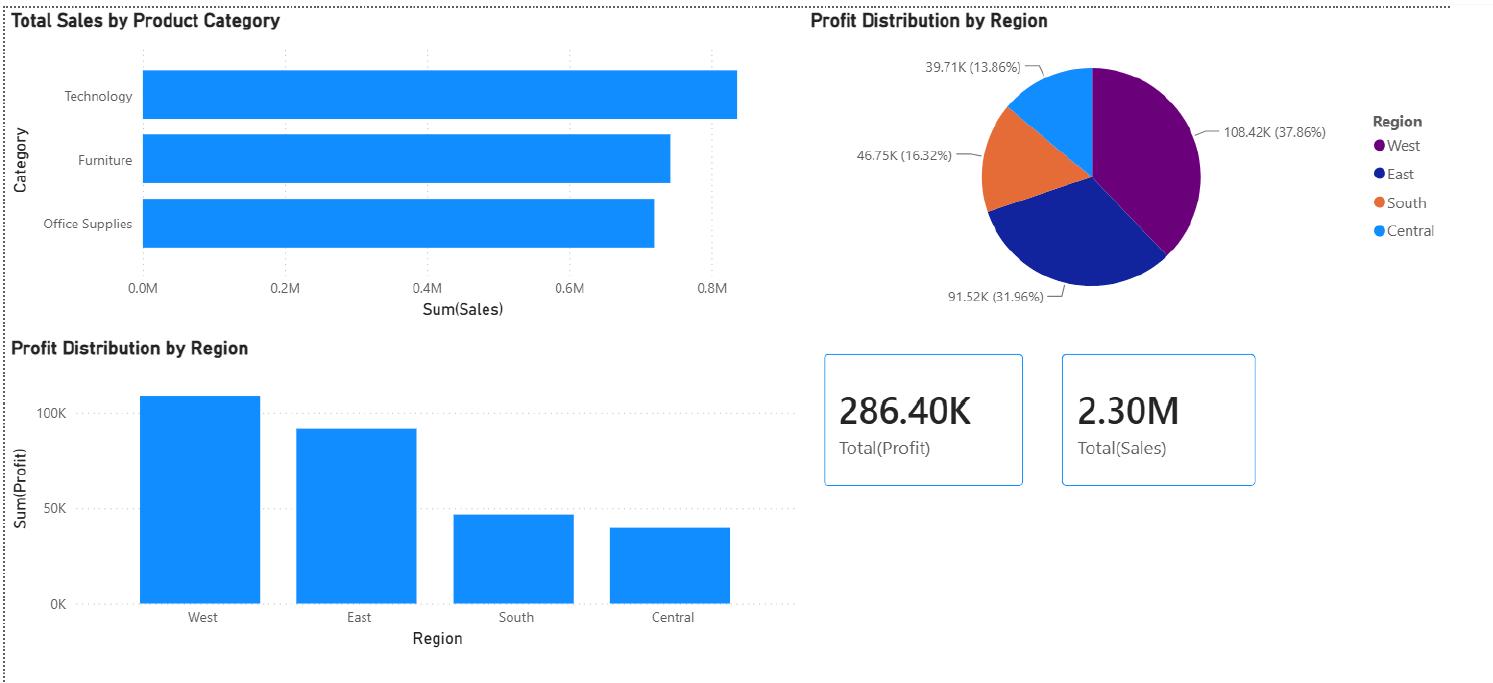

The dashboard page shown, as its layout file describes it:
{"tool":"powerbi","page":{"name":"Page 1","canvas":[1280,720],"ordinal":0},"visuals":[{"type":"barChart","title":"Total Sales by Product Category","fields":{"Y":["Sum(CategorySales.sum(Sales))"],"Category":["CategorySales.Category"]},"box":[0,0,708.1,279.9],"z":0},{"type":"pieChart","title":"Profit Distribution by Region","fields":{"Category":["RegionProfit.Region"],"Y":["Sum(RegionProfit.sum(Profit))"]},"box":[708.1,0,572.2,279.9],"z":1000},{"type":"columnChart","title":"Profit Distribution by Region","fields":{"Category":["RegionProfit.Region"],"Y":["Sum(RegionProfit.sum(Profit))"]},"box":[0,290,708,280],"z":2000},{"type":"cardVisual","fields":{"Data":["Sum(CategorySales.sum(Sales))"]},"box":[919.4,289.5,205.8,150.9],"z":3000},{"type":"cardVisual","fields":{"Data":["Sum(RegionProfit.sum(Profit))"]},"box":[708.1,289.5,211.3,150.9],"z":4000}]}

Visuals, with their boxes on the page's 1280x720 design canvas (x1, y1, x2, y2). These are canvas units, not pixel positions in the 1493x683 screenshot, which may show the page scaled, cropped or inside an application window:
"Total Sales by Product Category" barChart: [0,0,708,280]
"Profit Distribution by Region" pieChart: [708,0,1280,280]
"Profit Distribution by Region" columnChart: [0,290,708,570]
cardVisual - Sum(CategorySales.sum(Sales)): [919,290,1125,440]
cardVisual - Sum(RegionProfit.sum(Profit)): [708,290,919,440]
